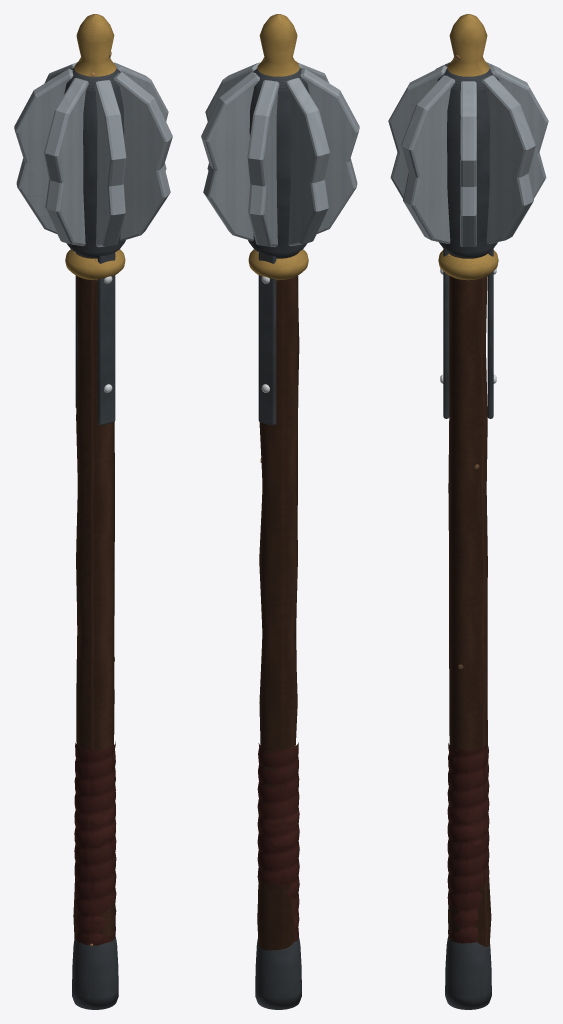
The model's file is flanged-mace.glb.
3 renders of one model, left to right at view 1: azimuth 30°, elevation 25°; view 2: azimuth 150°, elevation 25°; view 3: azimuth 270°, elevation 25°, orthographic.
Parts seen in each view (by area): view 1: steel / forged blade steel, wood / oiled hardwood, darksteel / oil-blackened fittings, leather / oiled leather wrap, brass / polished brass furniture; view 2: steel / forged blade steel, wood / oiled hardwood, darksteel / oil-blackened fittings, leather / oiled leather wrap, brass / polished brass furniture; view 3: wood / oiled hardwood, steel / forged blade steel, darksteel / oil-blackened fittings, leather / oiled leather wrap, brass / polished brass furniture.
Boxes of the visible parts, x1,y1,x2,y2 form: steel / forged blade steel: (14,62,172,247); wood / oiled hardwood: (73,253,115,942); darksteel / oil-blackened fittings: (64,68,125,1009); leather / oiled leather wrap: (74,741,116,945); brass / polished brass furniture: (65,14,125,280); steel / forged blade steel: (201,62,359,247); wood / oiled hardwood: (257,252,299,950); darksteel / oil-blackened fittings: (248,68,309,1009); leather / oiled leather wrap: (257,742,299,942); brass / polished brass furniture: (248,14,308,280); wood / oiled hardwood: (448,253,491,946); steel / forged blade steel: (388,62,548,246); darksteel / oil-blackened fittings: (437,68,499,1009); leather / oiled leather wrap: (447,743,489,943); brass / polished brass furniture: (438,14,498,280).
Bounding box in the file's own units: 0.1326 × 0.923 × 0.1359.
Materials: 8 (6 with a texture image).
